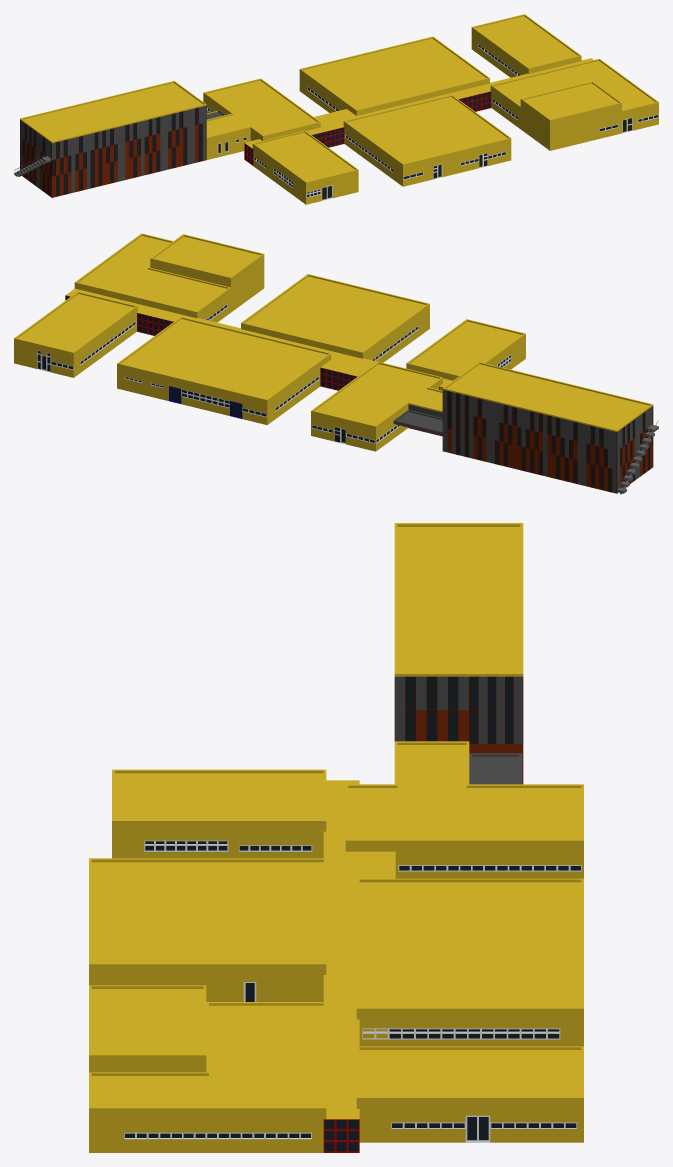
Rendered from facilitair_bedrijf.fbx.
3 views of the same model, one above another, from view 1: azimuth 30°, elevation 25°; view 2: azimuth 150°, elevation 25°; view 3: azimuth 270°, elevation 25° (orthographic). The views are drawn at different scales.
Visible parts, largest first — view 1: Box001; view 2: Box001; view 3: Box001.
Boxes of the visible parts, bbox=[...] form: Box001: bbox=[14, 14, 658, 204]; Box001: bbox=[14, 233, 658, 494]; Box001: bbox=[89, 523, 583, 1152].
Size of the model in its own units: 526 by 52.36 by 210.
